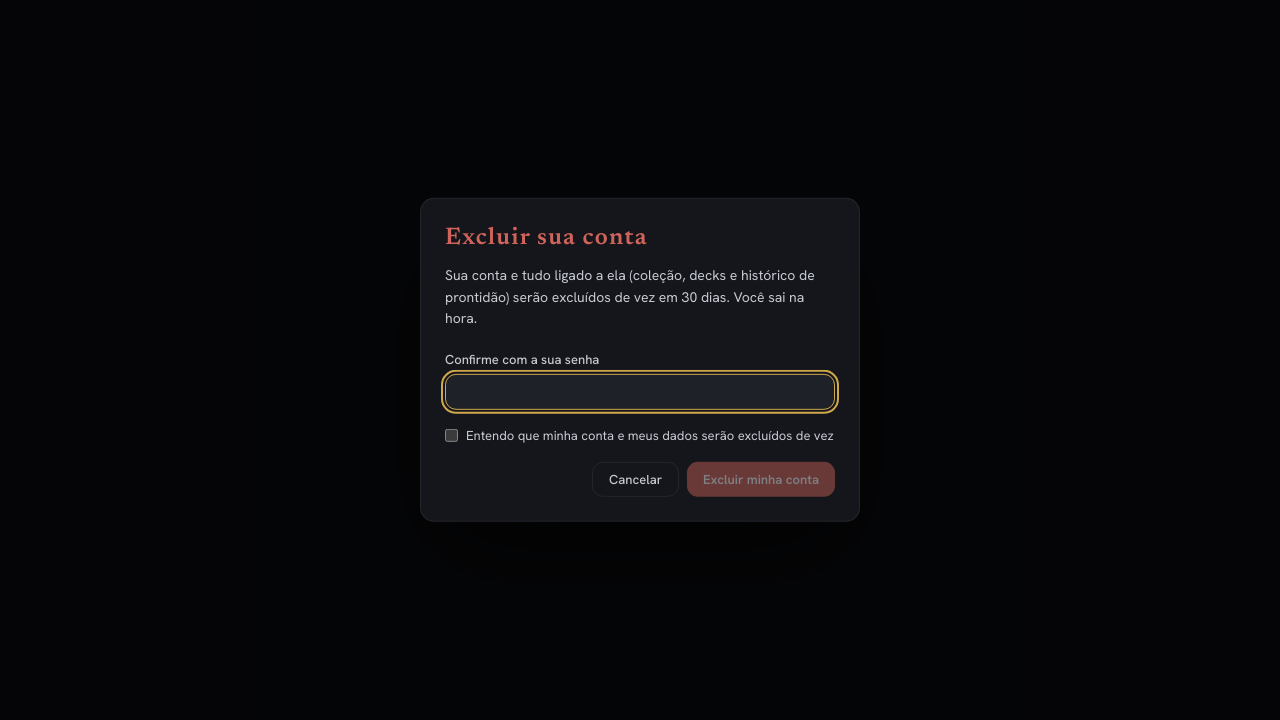
Test case: DeleteAccountModal › shows "Incorrect password" inline and keeps the modal open on 401
The width and height of the screenshot is (1280, 720).
Type "wrongpw" into the password field labelled "Confirme com a sua senha" at {"x": 640, "y": 392}, box [445,374,835,410]
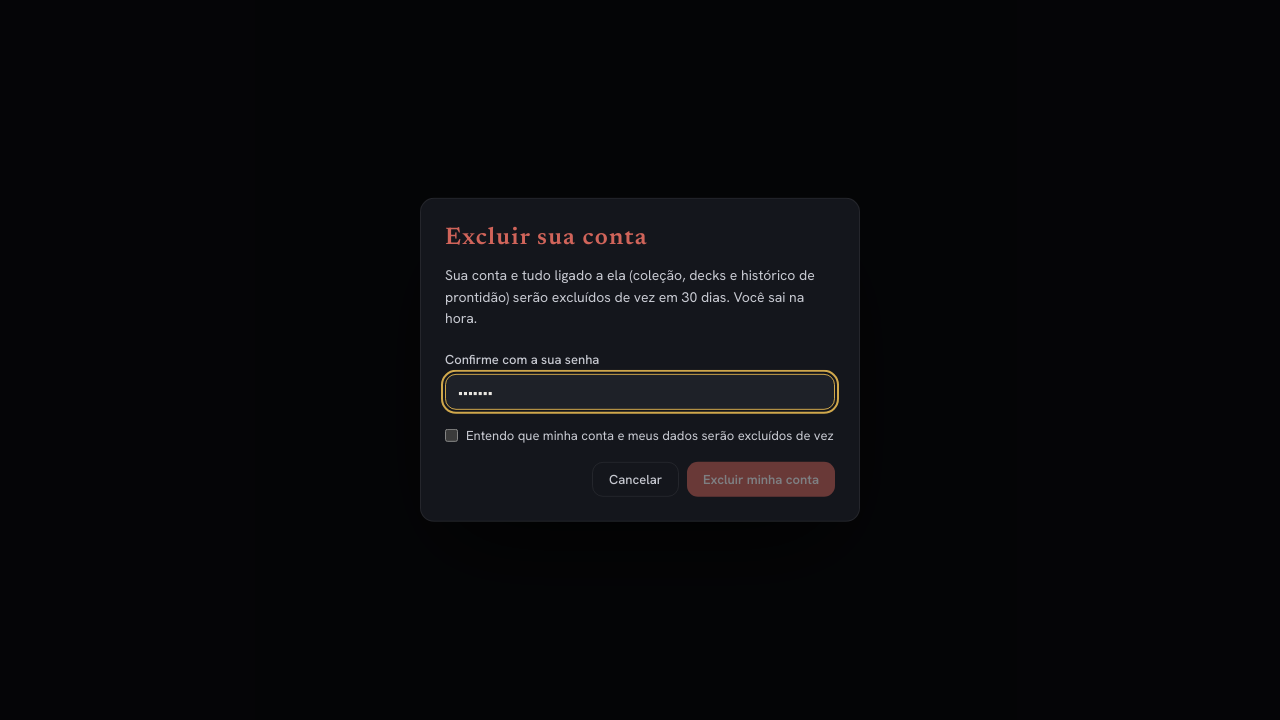
Click the checkbox labelled "Entendo que minha conta e meus dados serão excluídos de vez" at {"x": 452, "y": 436}, box [445,429,458,442]
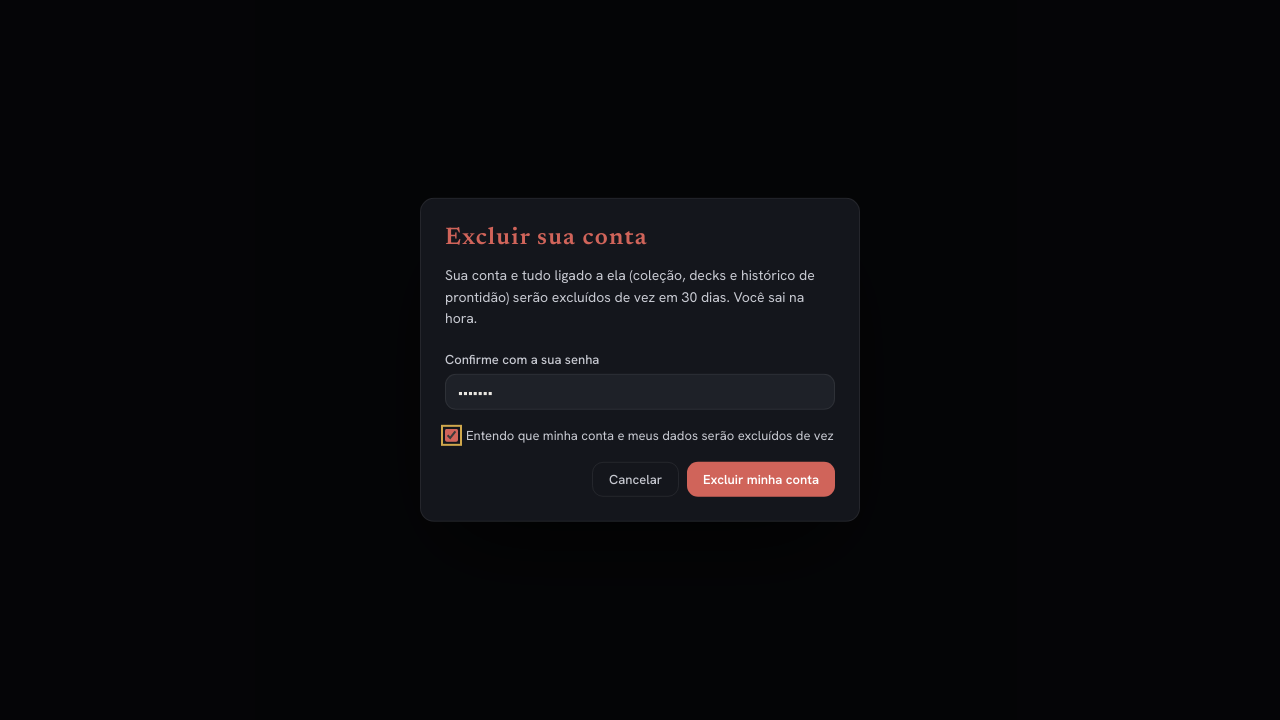
Click the button "Excluir minha conta" at {"x": 761, "y": 480}, box [687,462,835,497]
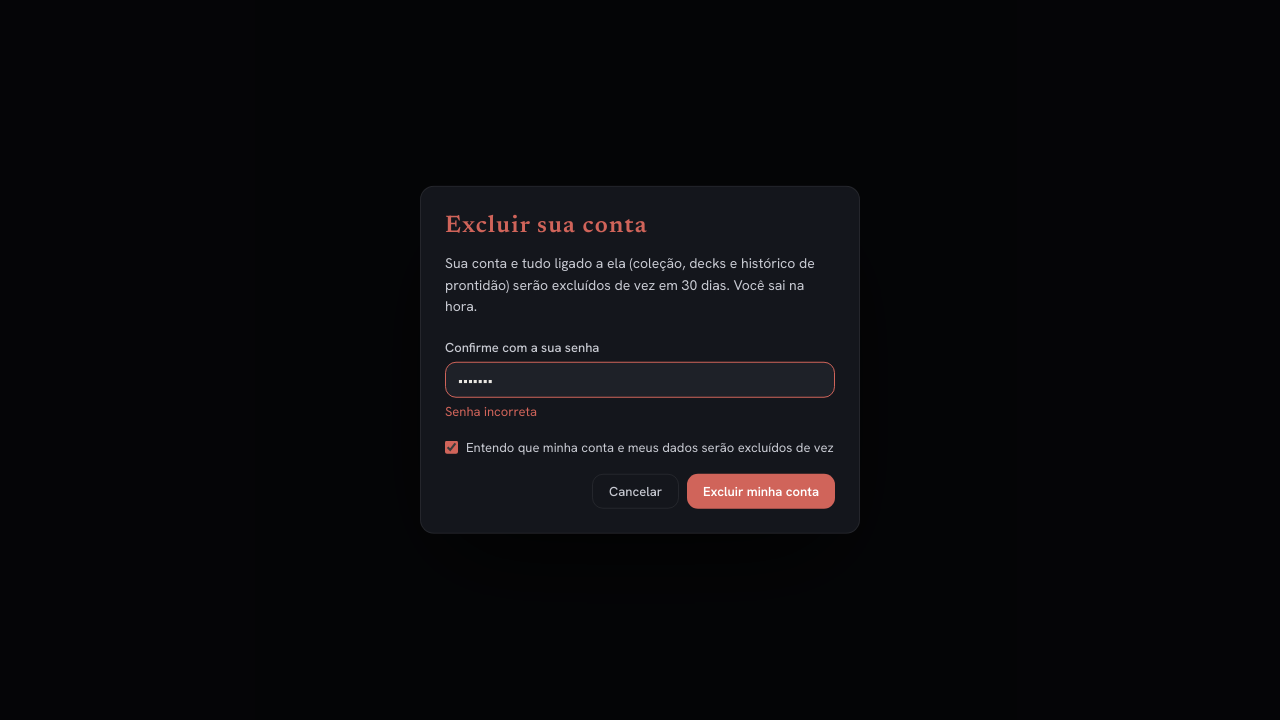
expect the dialog is shown: met, box [420,186,860,534]
expect the button "Excluir minha conta" is enabled: met, box [687,474,835,509]
expect the message reads "Senha incorreta": met, box [445,403,537,420]
